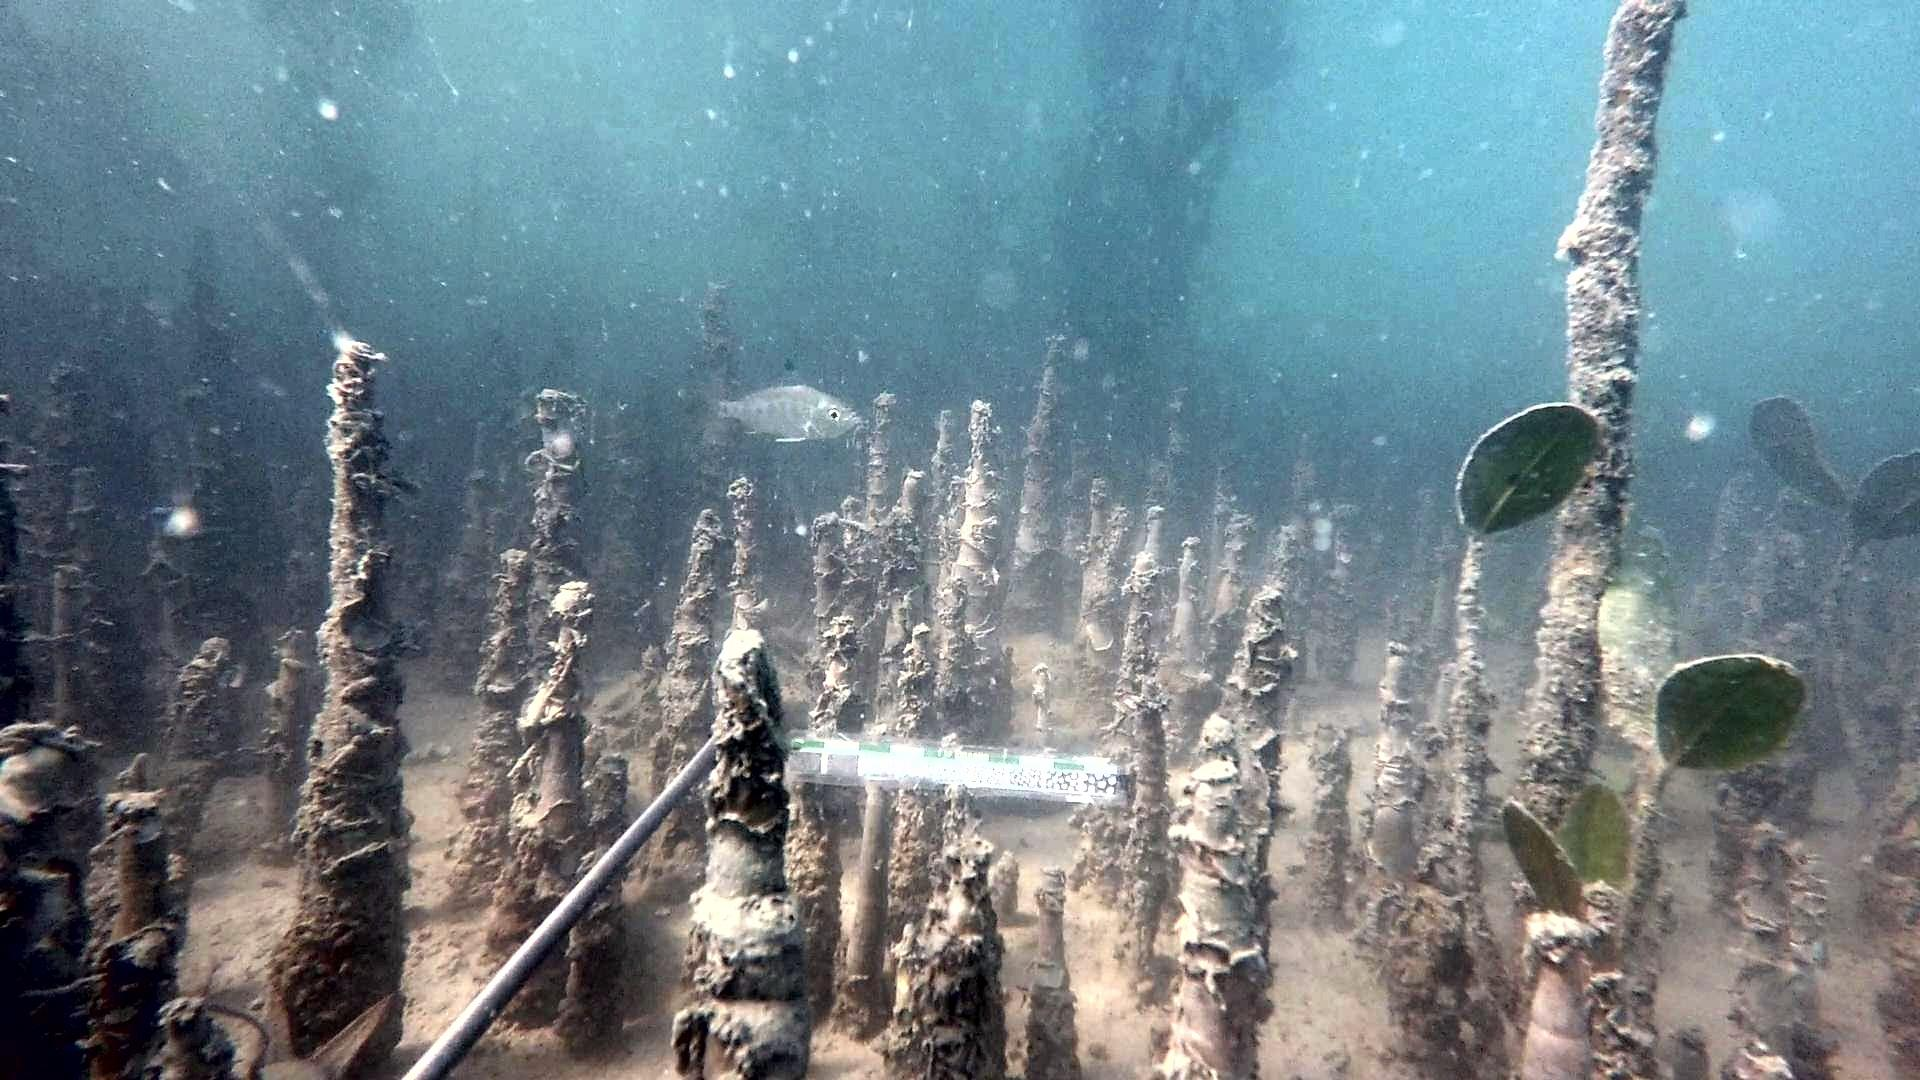gerres: (695, 356, 866, 446)
